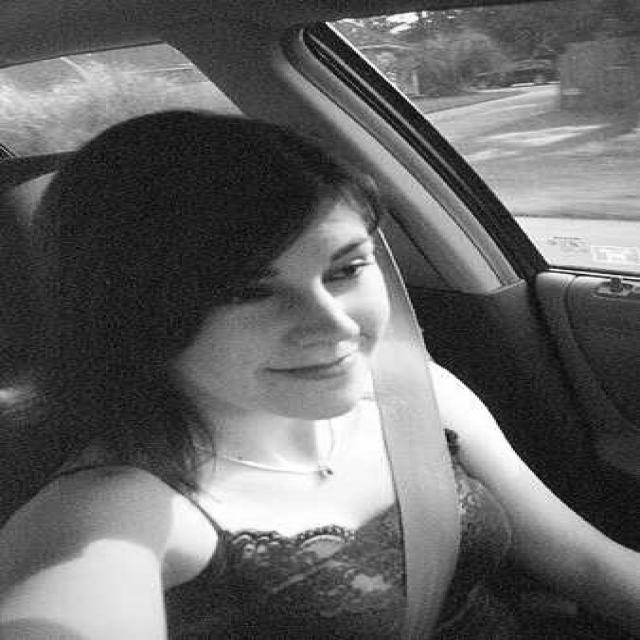Seatbelt: (381, 356, 500, 640)
